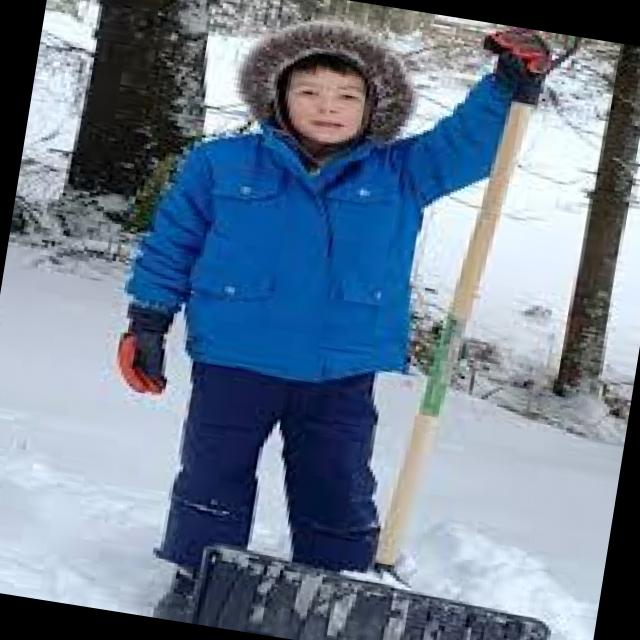Jacket: (93, 105, 511, 453)
